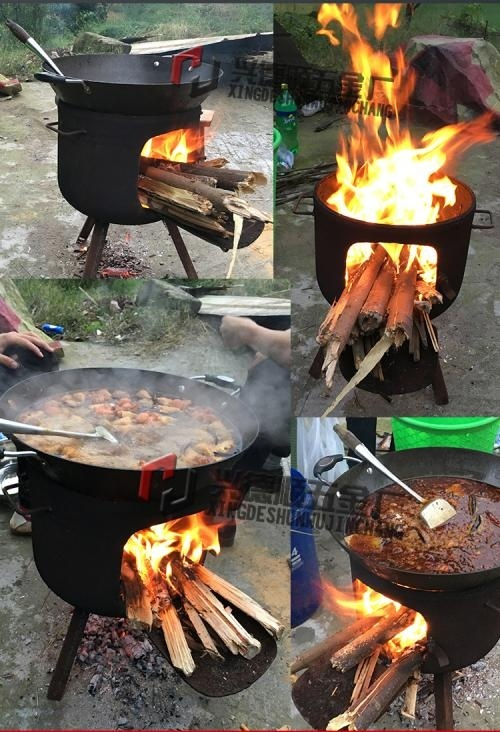fire: (311, 0, 464, 221), (12, 384, 230, 466), (321, 577, 429, 657), (121, 511, 224, 581), (341, 241, 442, 290), (139, 124, 196, 162), (390, 611, 427, 653)
